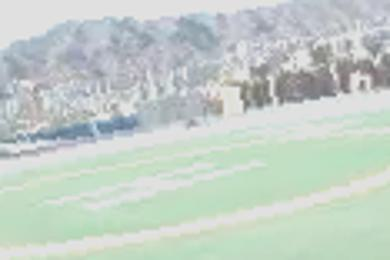Apron: (4, 113, 390, 257)
